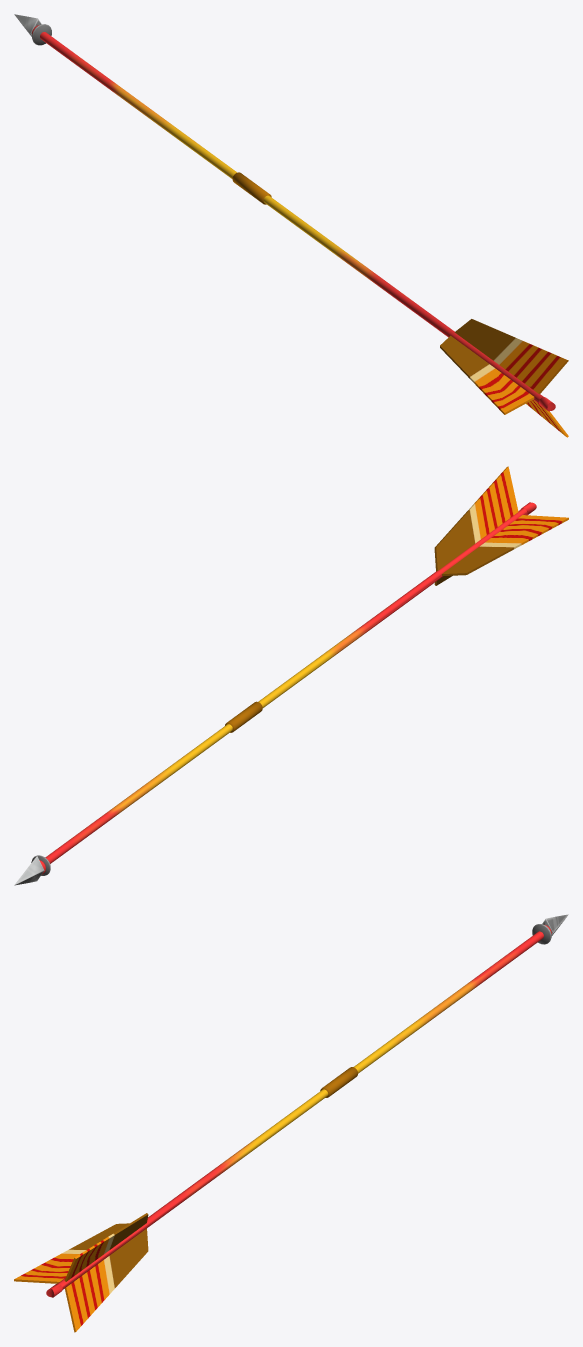
Rendered from frost.glb.
3 renders of one model, top to bottom at view 1: azimuth 30°, elevation 25°; view 2: azimuth 150°, elevation 25°; view 3: azimuth 330°, elevation 25°, orthographic. The views are drawn at different scales.
Visible parts, largest first — view 1: arrow; view 2: arrow; view 3: arrow.
Part boxes in pixels (left/top/right/bottom): arrow: left=14, top=14, right=568, bottom=437; arrow: left=14, top=466, right=568, bottom=885; arrow: left=14, top=914, right=568, bottom=1332.
Bounding box in the file's own units: 0.078 × 0.0901 × 1.13.
Materials: 1 (1 with a texture image).
